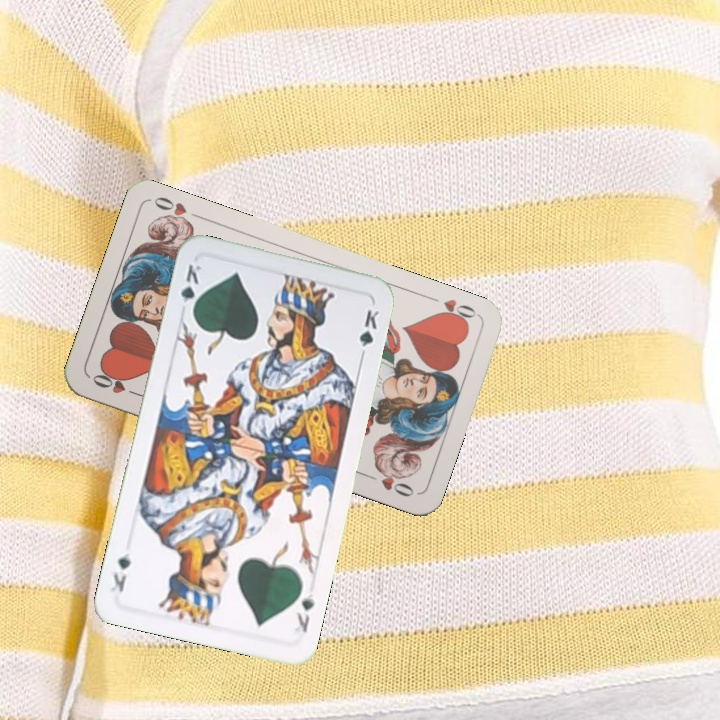GK: (177, 260, 205, 318), (289, 589, 317, 635)
HO: (423, 292, 480, 328), (88, 366, 144, 400)
